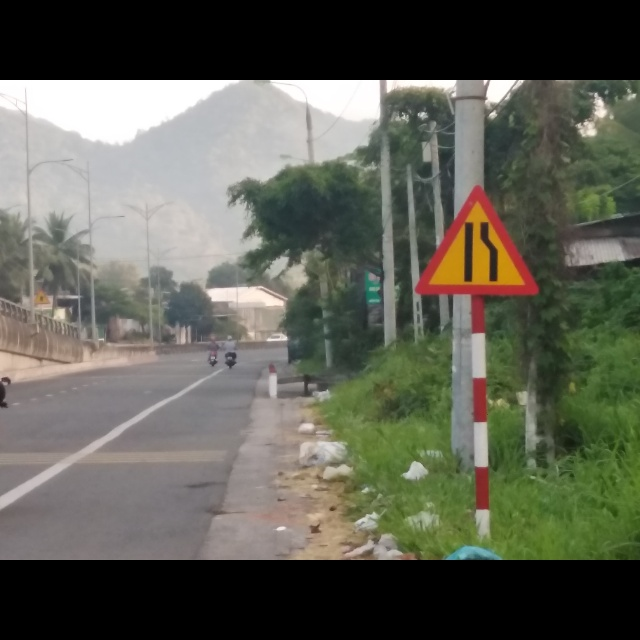Đường bị hẹp bên phải: (413, 183, 543, 297)
